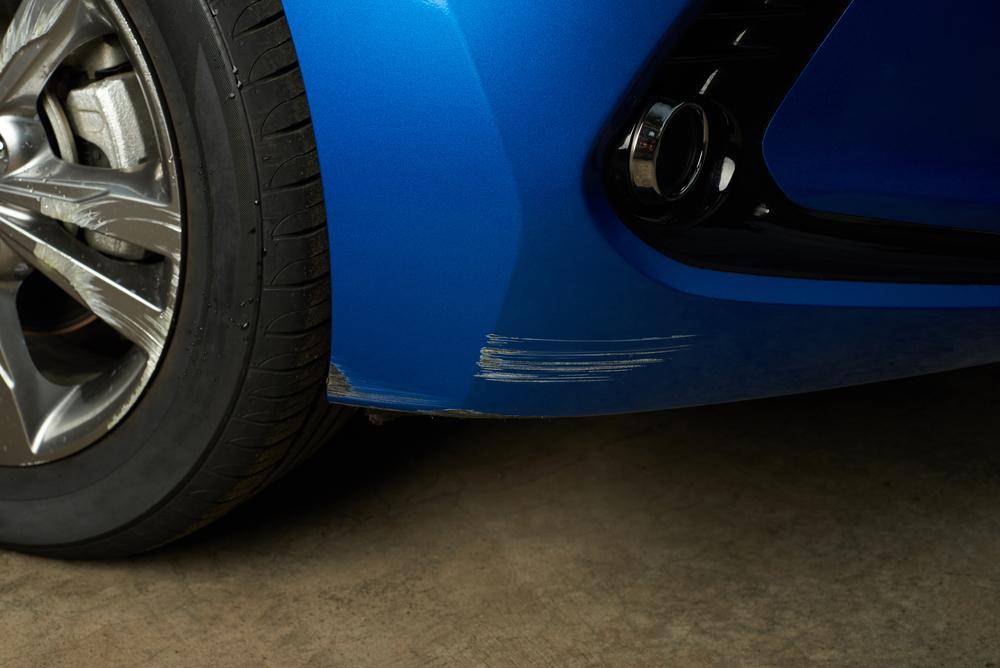scratch: (475, 324, 708, 391), (324, 354, 503, 419)
